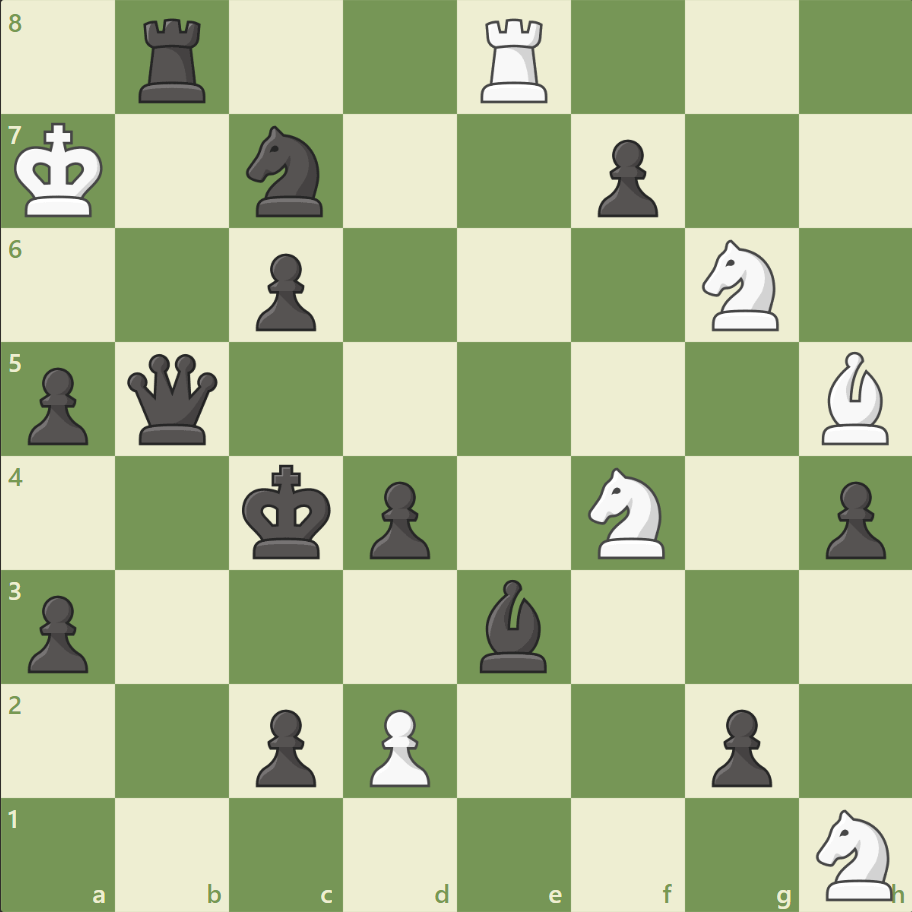B: (812, 347, 896, 449)
K: (11, 117, 111, 225)
N: (692, 234, 789, 337), (579, 461, 676, 564), (806, 802, 903, 904)
P: (361, 700, 435, 791)
R: (473, 12, 556, 109)
b: (471, 574, 555, 676)
k: (238, 458, 338, 566)
n: (238, 121, 335, 223)
p: (247, 246, 322, 337), (20, 359, 95, 450), (20, 586, 95, 677), (247, 700, 322, 791), (701, 700, 776, 791), (588, 132, 662, 223), (361, 473, 435, 564), (815, 473, 889, 564)
q: (124, 349, 223, 449)
r: (133, 12, 215, 109)
